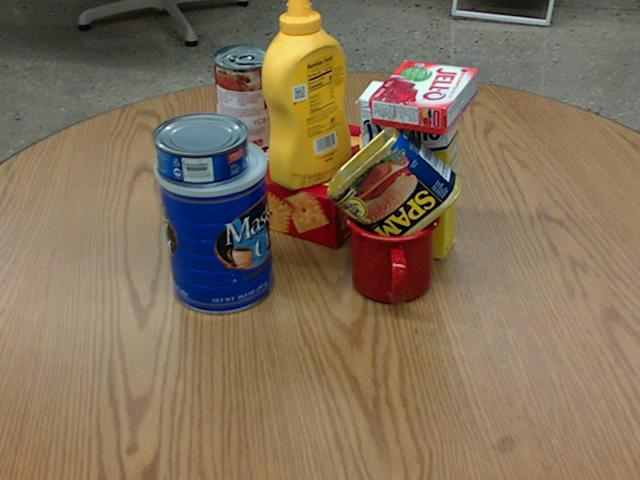cracker_box: (170, 101, 401, 248)
gelatin_box: (370, 59, 478, 134)
large_marker: (176, 135, 204, 240)
master_chef_can: (153, 133, 275, 312)
mug: (345, 191, 443, 305)
mustard_bottle: (263, 0, 351, 188)
potted_meat_can: (326, 121, 462, 254)
sugar_box: (360, 80, 460, 262)
tomato_soup_can: (212, 43, 276, 150)
tuna_fish_can: (151, 111, 248, 184)
